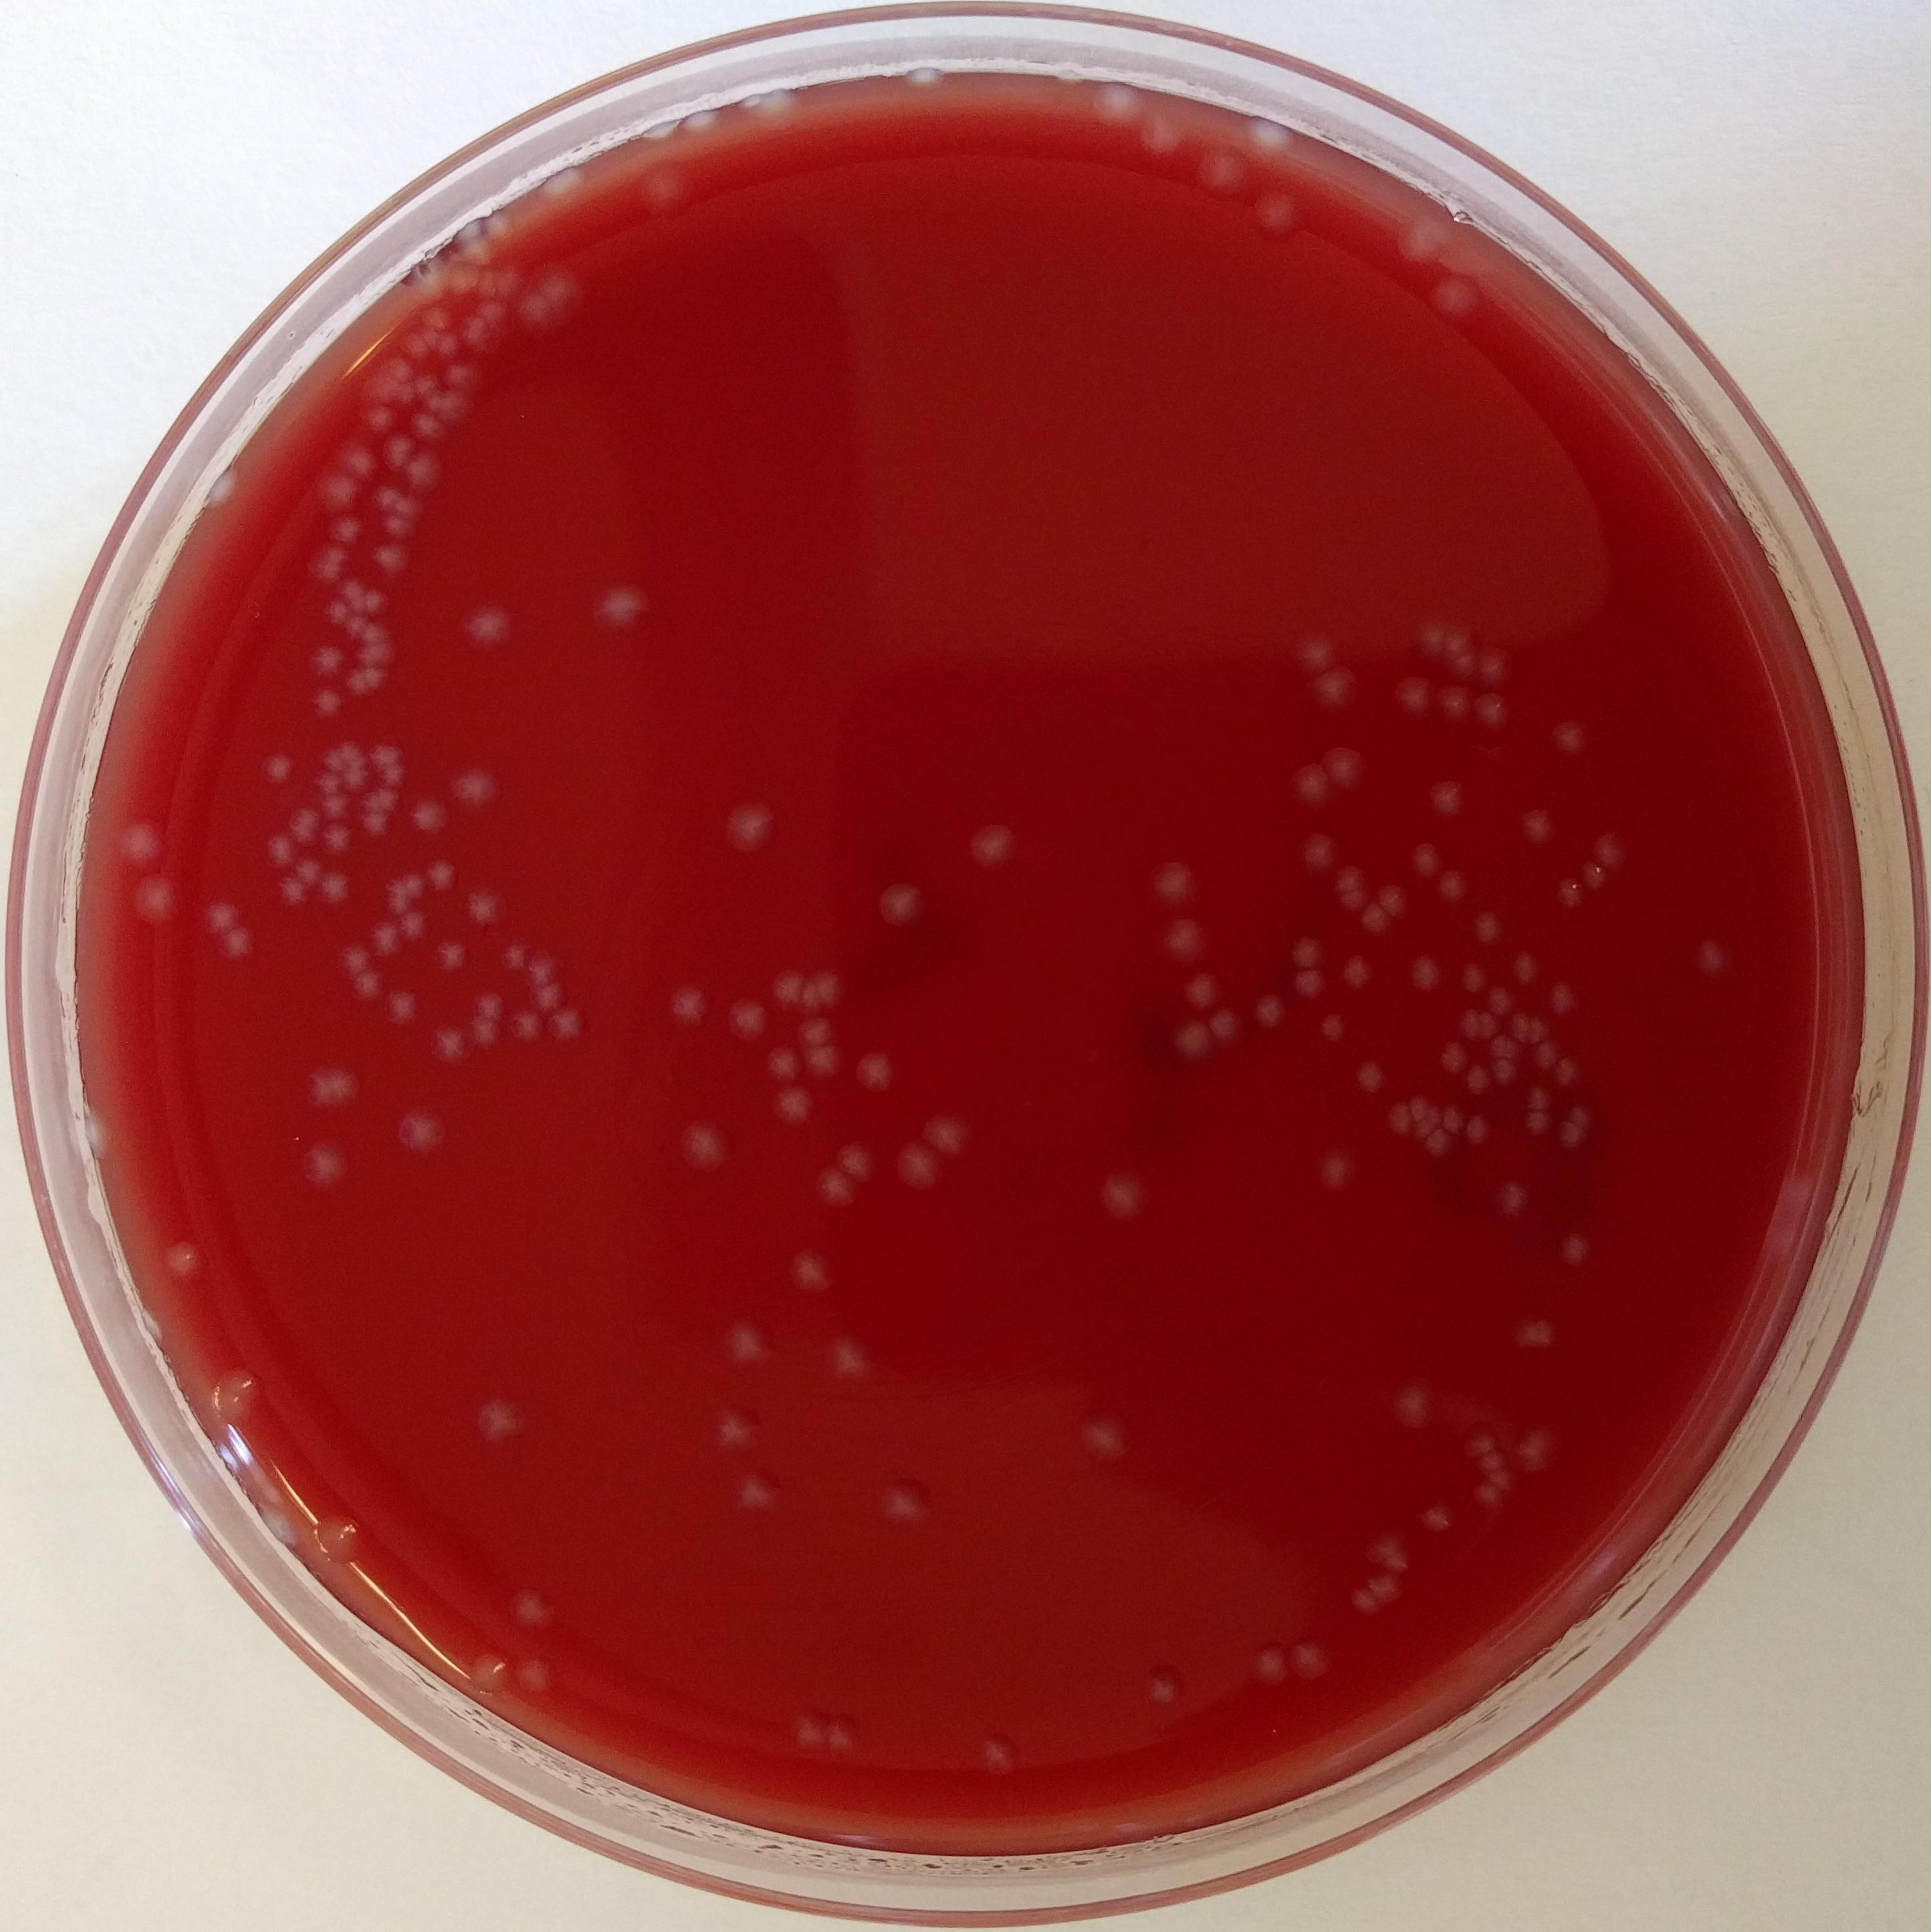sp18: (718, 797, 806, 873), (951, 811, 1027, 884), (127, 870, 193, 953), (665, 1114, 739, 1181), (391, 1103, 467, 1168), (1141, 1647, 1202, 1727), (868, 870, 934, 944), (865, 1469, 941, 1533), (297, 1053, 373, 1117), (285, 1130, 355, 1197), (1190, 133, 1259, 200), (584, 574, 654, 638), (706, 1315, 782, 1373), (911, 1108, 990, 1163), (1229, 110, 1305, 166), (509, 281, 575, 346), (1248, 182, 1310, 251), (156, 1232, 225, 1294), (706, 1402, 771, 1462), (631, 163, 697, 221), (725, 1462, 790, 1520), (1510, 1416, 1568, 1481), (472, 1396, 546, 1446), (1084, 74, 1146, 133), (1130, 95, 1183, 163), (454, 601, 515, 659), (311, 1506, 373, 1563), (1319, 735, 1378, 794), (1383, 1372, 1438, 1434), (115, 818, 170, 879), (1385, 217, 1454, 265), (1146, 856, 1208, 909), (1095, 1172, 1156, 1225), (780, 1248, 842, 1301), (1072, 1418, 1133, 1471), (508, 1653, 566, 1708), (658, 983, 716, 1038), (1420, 769, 1473, 829), (822, 1716, 875, 1776), (446, 765, 506, 818), (782, 1700, 833, 1762), (1427, 267, 1482, 323), (1303, 661, 1365, 711), (725, 990, 775, 1052), (1547, 709, 1600, 765), (534, 262, 594, 311), (1153, 917, 1215, 965), (205, 1356, 274, 1398), (78, 1107, 124, 1170), (1280, 1635, 1332, 1692), (891, 1140, 944, 1193), (1234, 1637, 1287, 1690), (1167, 1015, 1215, 1073), (741, 85, 803, 129), (824, 1329, 877, 1381), (1282, 758, 1339, 806), (1512, 794, 1554, 856), (1591, 831, 1641, 884), (1316, 1149, 1369, 1198), (329, 435, 384, 483), (1284, 629, 1340, 675), (401, 251, 453, 300), (1683, 933, 1735, 983), (462, 880, 508, 935), (378, 983, 428, 1032), (253, 746, 304, 794), (500, 1584, 557, 1626), (198, 1386, 255, 1428), (808, 1163, 858, 1211), (769, 1084, 819, 1131), (1556, 1230, 1607, 1276), (851, 1050, 902, 1096), (541, 1004, 592, 1050), (1512, 1312, 1560, 1359), (1174, 963, 1224, 1009), (408, 792, 458, 838), (900, 53, 948, 99), (428, 1020, 474, 1068), (1248, 986, 1291, 1038), (216, 923, 267, 965), (302, 640, 355, 681), (1388, 672, 1429, 725), (789, 1009, 843, 1048), (488, 260, 534, 306), (833, 1140, 879, 1186), (1432, 679, 1477, 726), (799, 1038, 847, 1082), (759, 1038, 806, 1082), (428, 937, 476, 981), (470, 288, 513, 338), (767, 965, 810, 1015), (974, 1738, 1024, 1780), (405, 445, 446, 497), (538, 163, 589, 203), (1494, 1174, 1535, 1225), (309, 470, 354, 516), (1469, 688, 1515, 732), (304, 546, 352, 589), (506, 1000, 548, 1048), (460, 1009, 508, 1052), (203, 468, 253, 509), (364, 541, 416, 580), (1416, 1495, 1457, 1543), (1454, 1416, 1501, 1457), (1284, 928, 1333, 967), (1201, 1002, 1243, 1046), (258, 833, 302, 875), (467, 1654, 513, 1695), (368, 921, 408, 967), (313, 868, 359, 909), (1406, 949, 1445, 997), (417, 389, 472, 422), (1457, 1112, 1501, 1152), (812, 962, 852, 1006), (377, 507, 423, 546), (1434, 864, 1473, 910), (1335, 951, 1374, 997), (345, 965, 391, 1004), (357, 398, 407, 433), (285, 804, 324, 848), (522, 947, 568, 985), (1408, 840, 1446, 882), (340, 942, 382, 981), (1363, 1573, 1408, 1610), (1286, 963, 1332, 999), (1464, 910, 1512, 944), (1385, 1096, 1418, 1144), (1556, 877, 1595, 917), (1298, 829, 1337, 870), (318, 818, 359, 857), (1441, 617, 1478, 659), (357, 802, 400, 840), (355, 638, 401, 672), (1577, 861, 1616, 900), (1314, 1004, 1353, 1043), (423, 856, 462, 894), (1542, 981, 1579, 1022), (1459, 1057, 1496, 1098), (1561, 1099, 1602, 1137), (203, 900, 246, 935), (407, 412, 451, 445), (354, 615, 398, 649), (440, 260, 479, 297), (1409, 620, 1446, 659), (1438, 1101, 1477, 1138), (796, 977, 833, 1016), (1471, 1479, 1510, 1517), (394, 910, 433, 947), (439, 359, 479, 394), (359, 783, 407, 813), (1434, 1038, 1468, 1080), (1484, 1031, 1528, 1062), (1372, 882, 1409, 919), (1418, 1126, 1455, 1163), (1507, 949, 1542, 988), (1355, 903, 1393, 939), (495, 939, 536, 972), (377, 426, 408, 468), (1478, 640, 1507, 688), (1365, 1536, 1409, 1566), (1351, 1062, 1388, 1098), (1528, 1036, 1560, 1076), (532, 974, 573, 1006), (477, 212, 520, 242), (272, 873, 315, 903), (1485, 985, 1521, 1020), (343, 666, 377, 704), (1333, 861, 1370, 894), (1487, 1053, 1521, 1091), (469, 988, 506, 1022), (364, 377, 407, 405), (309, 681, 338, 723), (470, 265, 506, 299), (317, 596, 352, 629), (449, 219, 483, 255), (1551, 1057, 1584, 1092), (1346, 1586, 1381, 1619), (380, 352, 417, 384), (363, 590, 401, 620), (1459, 958, 1489, 997), (1471, 1004, 1501, 1043), (343, 760, 373, 799), (368, 739, 407, 769), (324, 511, 364, 539), (460, 316, 495, 348), (1523, 1080, 1558, 1112), (1523, 1107, 1558, 1138), (1554, 1117, 1586, 1152), (380, 879, 412, 914), (288, 856, 324, 887), (320, 792, 355, 824), (396, 866, 426, 903), (1455, 1008, 1484, 1046), (368, 481, 403, 511), (1446, 650, 1478, 682), (1413, 1105, 1441, 1140), (1530, 1009, 1554, 1048), (396, 329, 430, 357), (412, 368, 442, 398), (1404, 1089, 1432, 1121), (1508, 1009, 1531, 1048), (1480, 1465, 1519, 1488), (393, 495, 423, 523), (1473, 1446, 1503, 1474), (1381, 1552, 1415, 1577), (679, 113, 721, 133), (341, 613, 370, 642), (355, 661, 385, 688), (423, 300, 454, 325), (1340, 886, 1372, 910), (313, 767, 341, 794), (336, 737, 363, 765), (419, 313, 440, 346), (340, 576, 366, 603), (440, 325, 460, 361), (343, 596, 368, 622), (380, 762, 408, 785), (322, 751, 347, 776)
